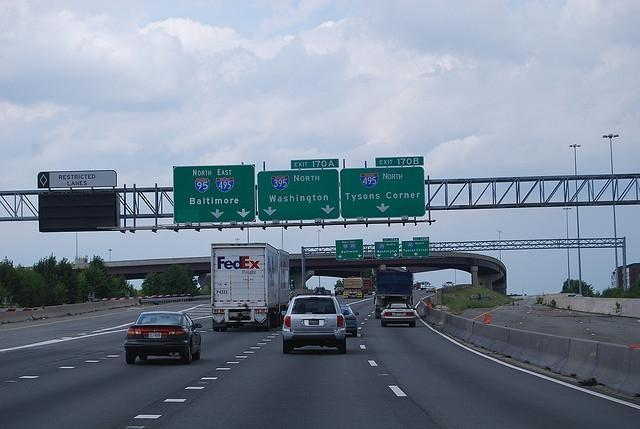car: (124, 311, 202, 364), (282, 296, 346, 354), (379, 303, 416, 327), (338, 304, 359, 338), (313, 288, 332, 294), (425, 285, 437, 294), (335, 287, 344, 296), (416, 282, 423, 290), (564, 294, 576, 298), (574, 295, 584, 298)
truck: (211, 244, 291, 332), (374, 266, 416, 318), (342, 276, 363, 298)
